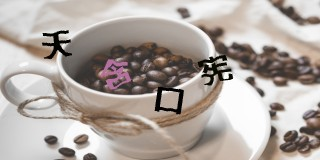口: (154, 85, 186, 116)
含: (100, 58, 131, 88)
天: (40, 30, 74, 61)
宪: (198, 53, 235, 87)
